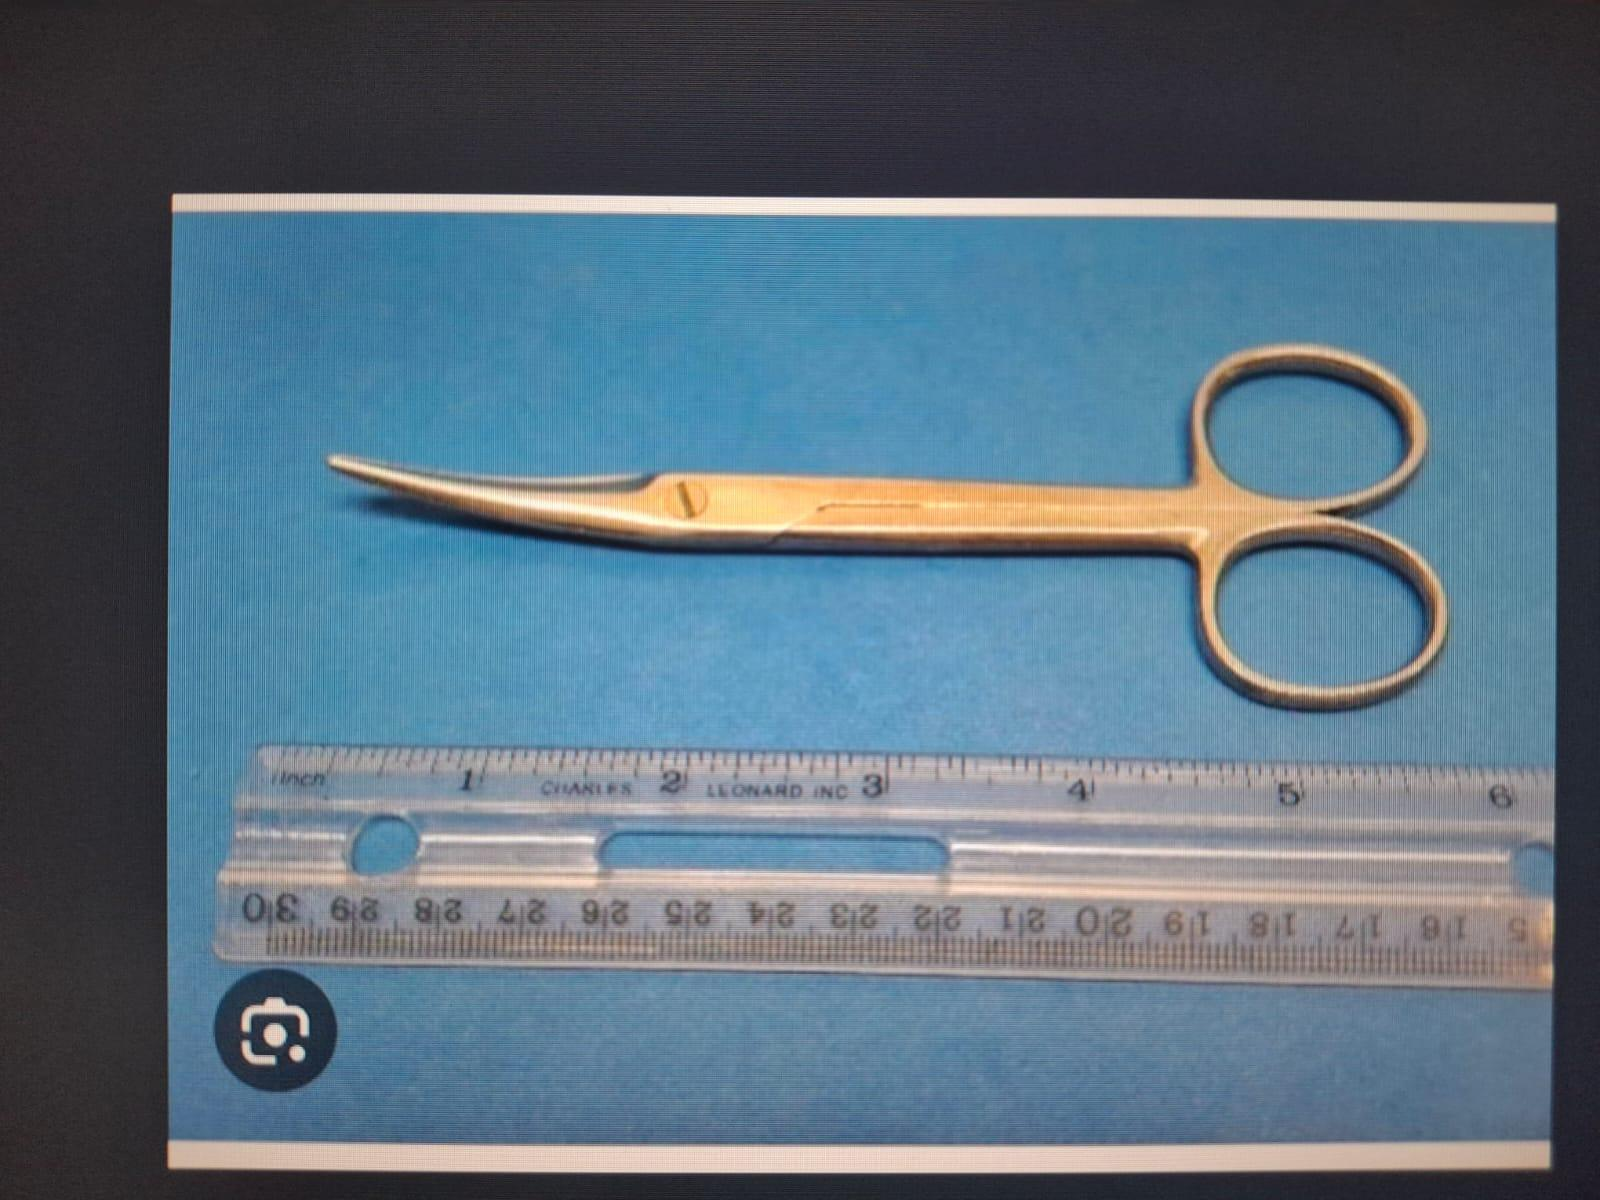Curved Mayo: (302, 332, 1464, 712)
